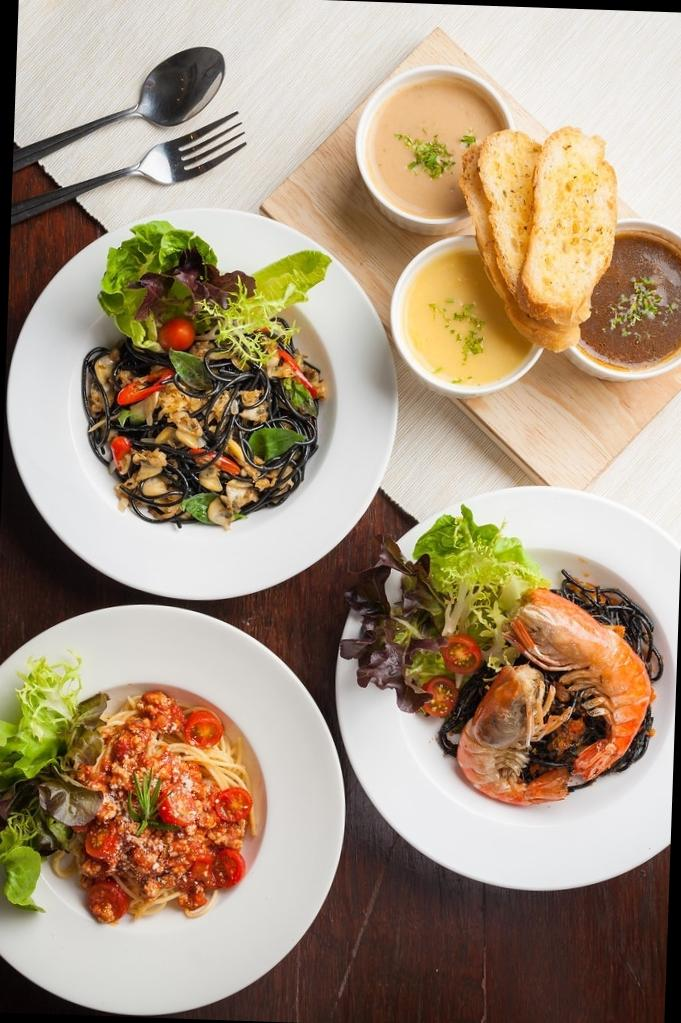Bread: (450, 140, 614, 332)
